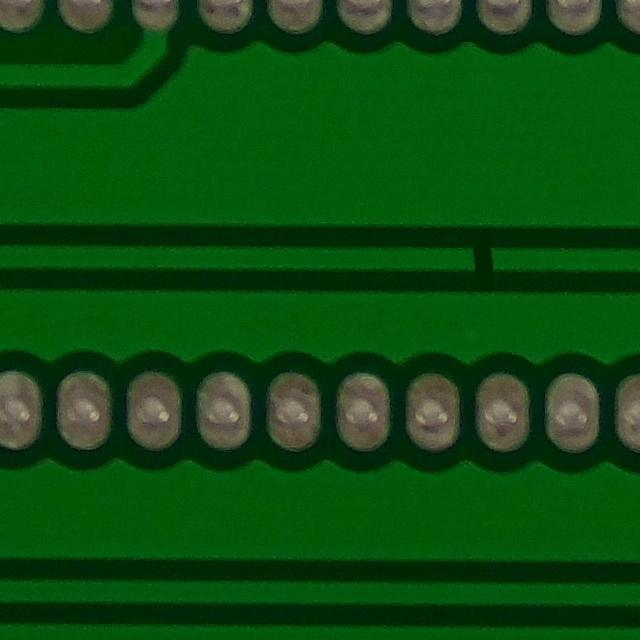open_circuit: (457, 233, 509, 283)
